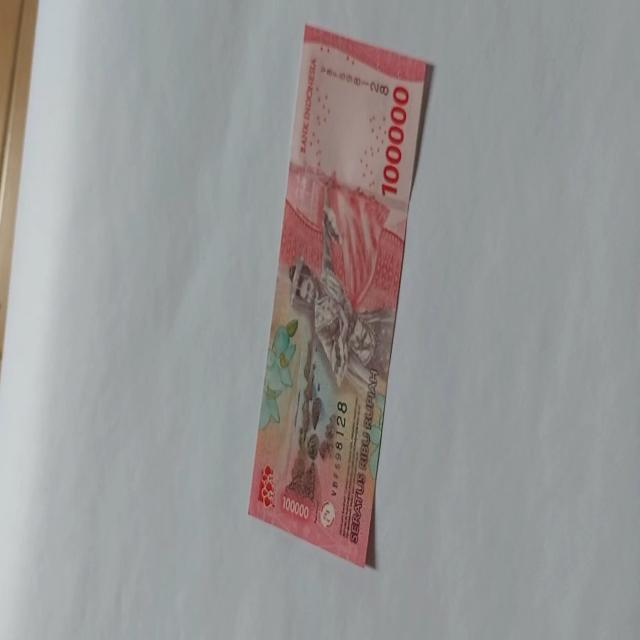seratus ribu rupiah: (246, 23, 434, 568), (288, 204, 380, 398)
